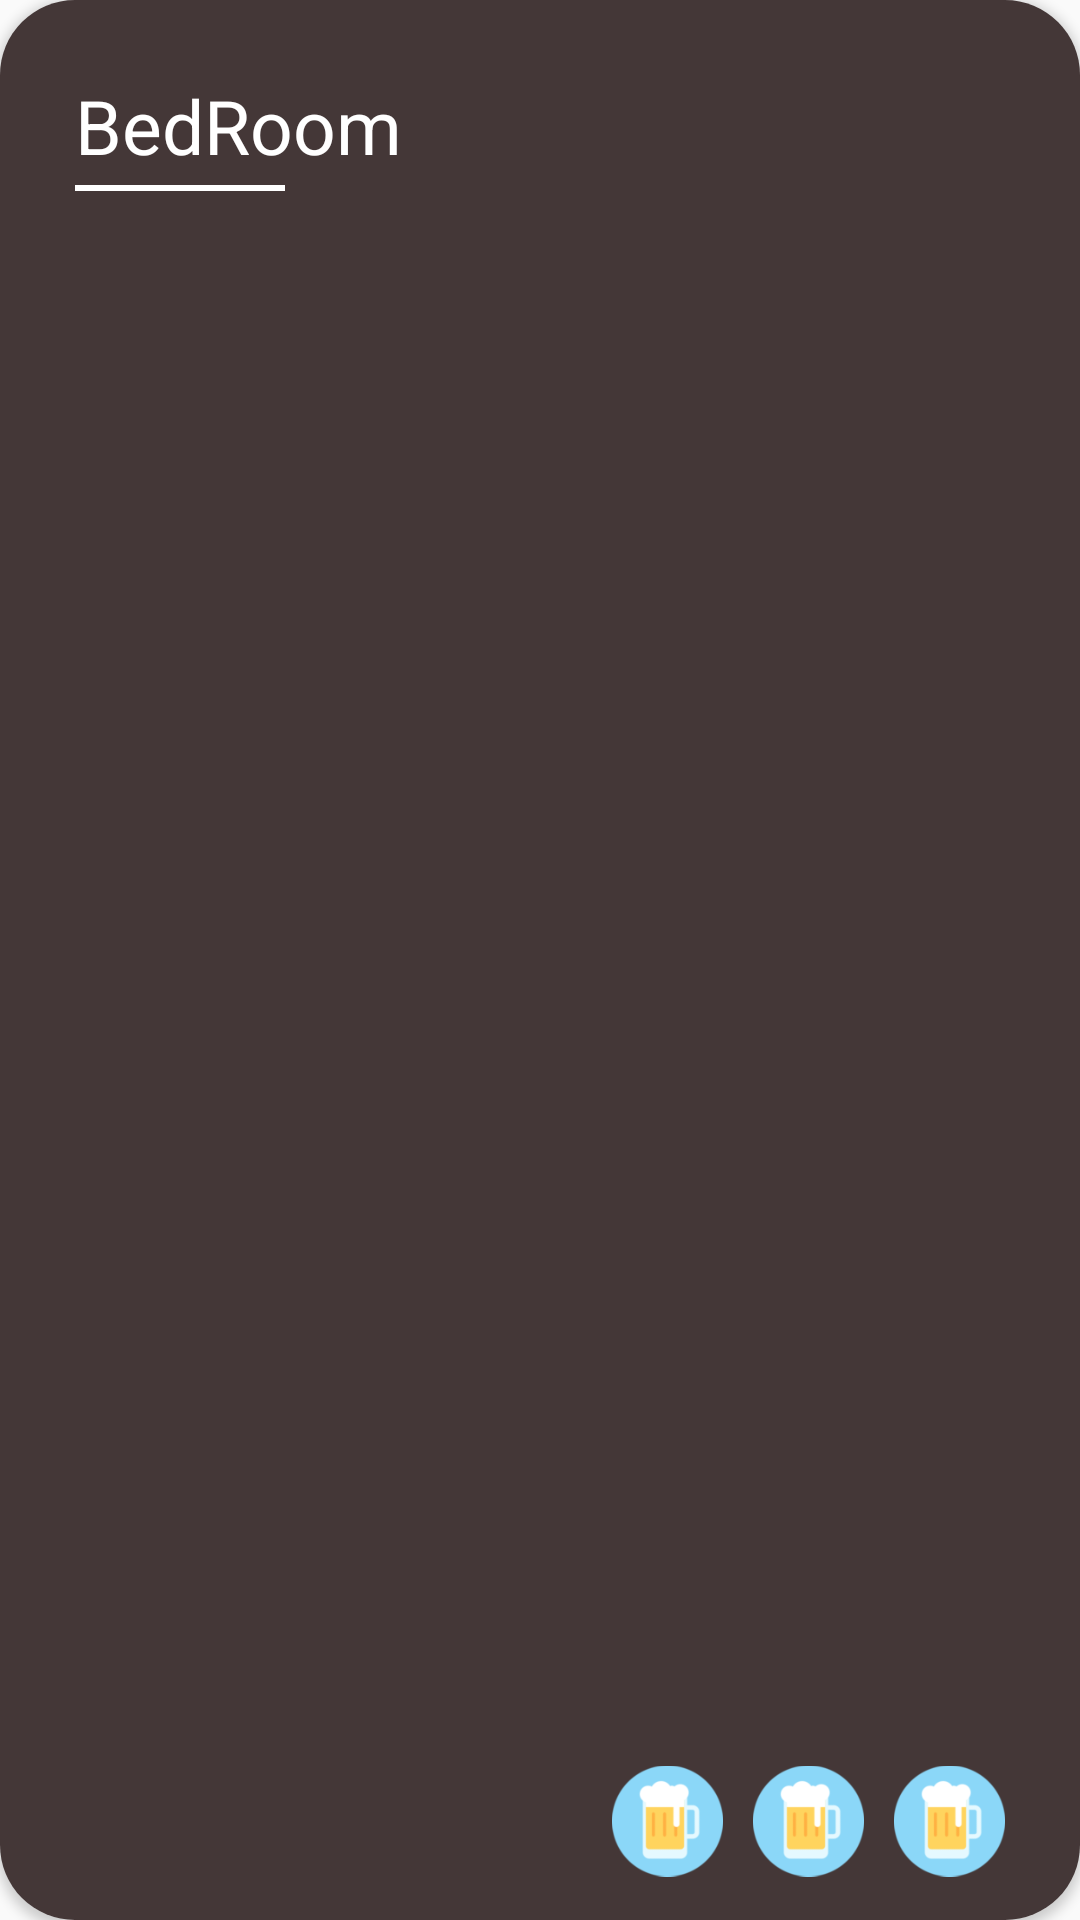

Icon bounding boxes for this 1080×1920 phone screenshot, format (x1, y1, x2, y2):
beeer: (612, 1766, 723, 1877), (753, 1766, 864, 1877), (894, 1766, 1005, 1877)
